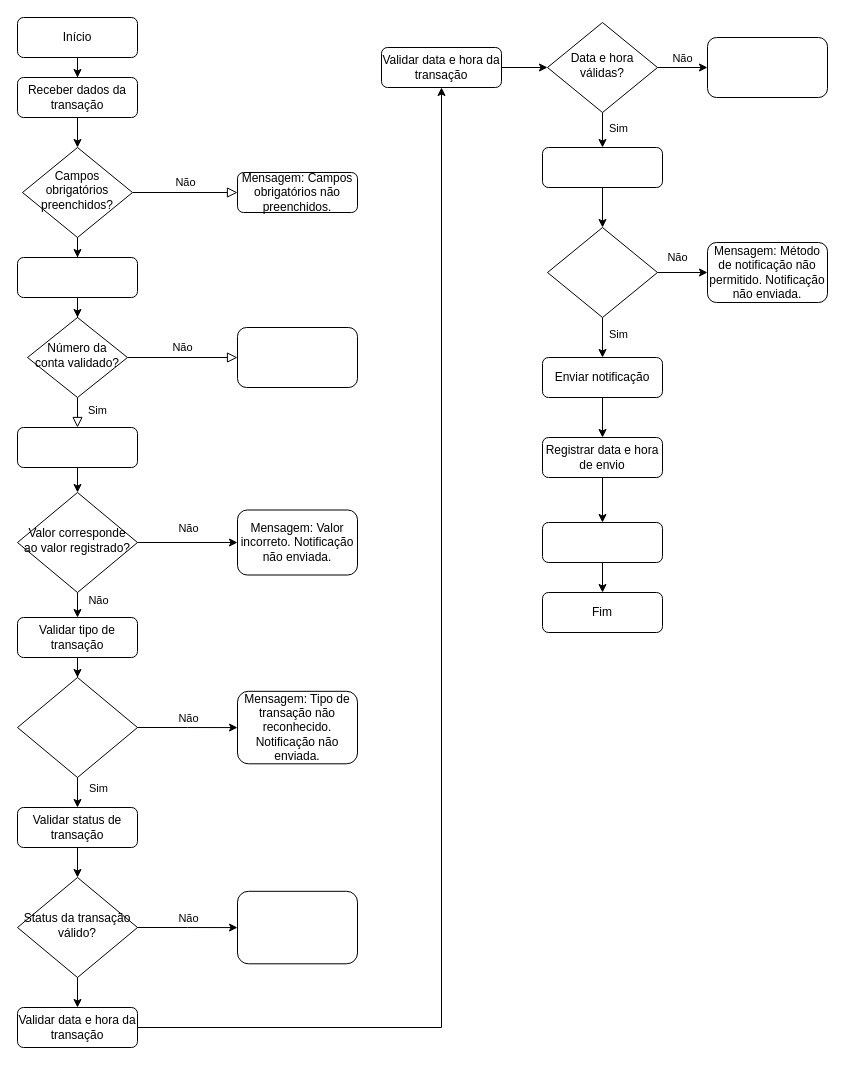
The diagram is 845 pixels wide and 1065 high, and some of its shapes have lost their labels. The shapes that lost their labels are listed below. From the top down, each one's centre as x and y in pixels, then its label:
At (767,67): "Mensagem: Data e hora inválidas. Notificação não enviada.".
At (602,167): "Validar método de notificação".
At (77,277): "Validar número da conta".
At (602,272): "Método de notificação permitido?".
At (297,357): "Mensagem: Número de conta inválido. Notificação não enviada.".
At (77,447): "Validar valor da transação".
At (602,542): "Mostrar mensagem: Notificação enviada".
At (77,727): "Tipo de transação reconhecido?".
At (297,927): "Mensagem: Status da transação incorreto. Notificação não enviada.".
